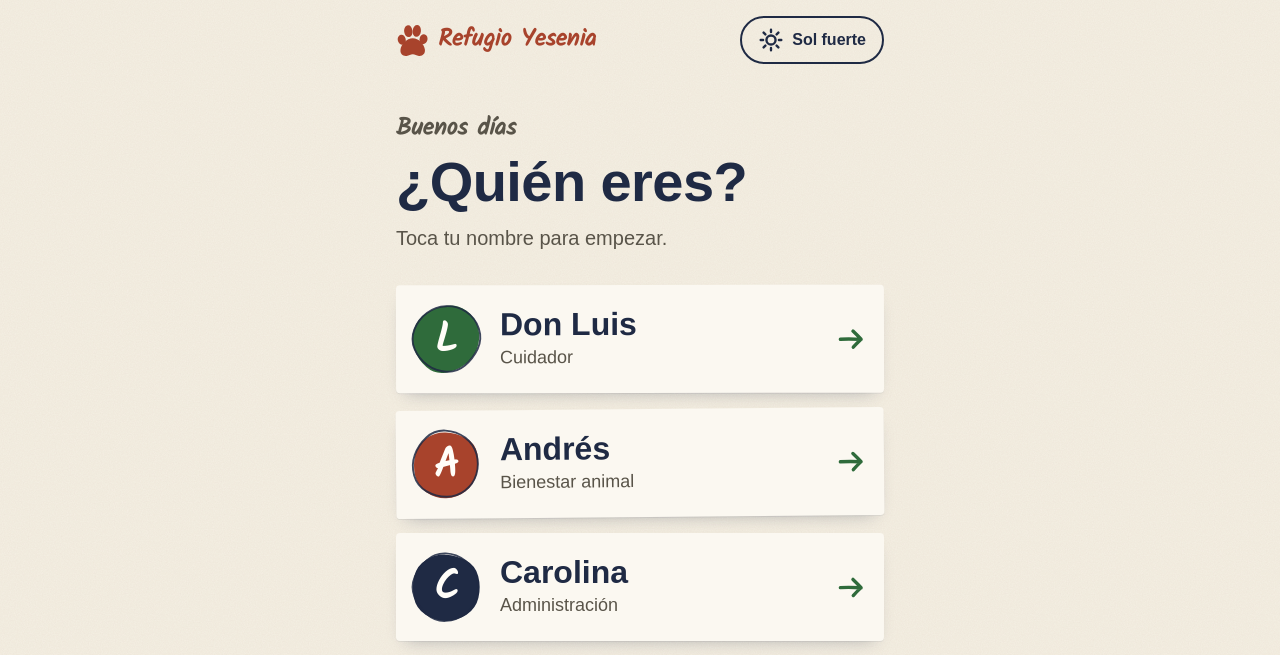
Test case: Plata › la administradora entra a Plata y ve la caja y la deuda de cada clínica
Click the button "C Carolina Administración" at (446, 587), box x1=396 y1=533 x2=884 y2=642
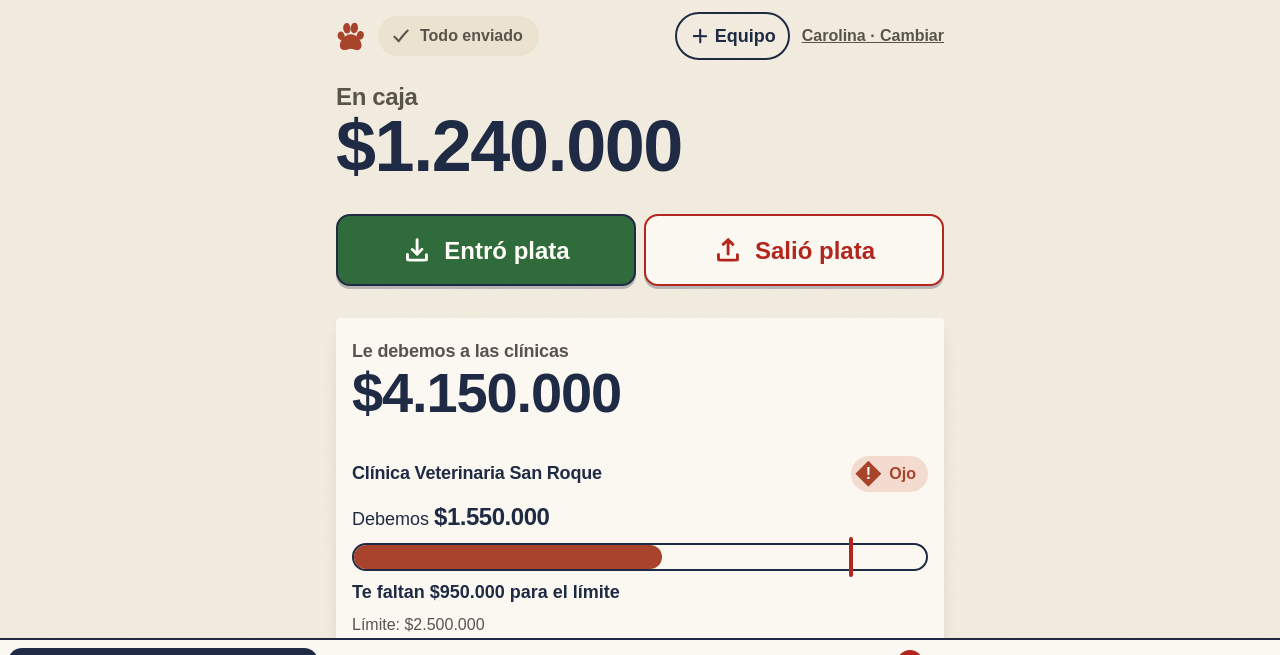
Check: the heading "En caja $1.240.000" is shown, box x1=336 y1=83 x2=682 y2=186
Check: the text "Te faltan $950.000 para el límite" is shown, box x1=352 y1=582 x2=620 y2=602
